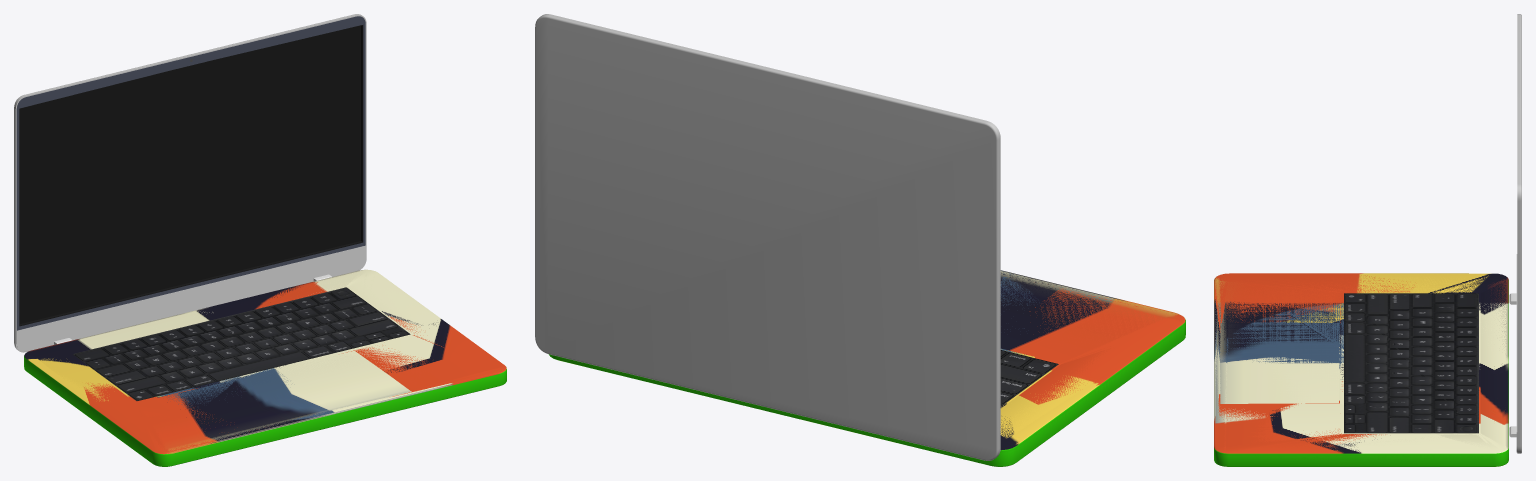
Rendered from pc_1_baskı.fbx.
3 views of the same model, side by side, from view 1: azimuth 30°, elevation 25°; view 2: azimuth 150°, elevation 25°; view 3: azimuth 270°, elevation 25° (orthographic). The views are drawn at different scales.
Visible parts, largest first — view 1: ekran_bosluk, kasa_klayve_bosluk, sadece_klavye, bos_kasa, kasa_mousepad_bosluk, kasa_klayve_mousepad_bosluk; view 2: ekran_bosluk, kasa_klayve_bosluk, kasa_mousepad_bosluk, bos_kasa, sadece_klavye; view 3: kasa_klayve_bosluk, sadece_klavye, kasa_mousepad_bosluk, bos_kasa, kasa_klayve_mousepad_bosluk, ekran_bosluk.
Boxes of the visible parts, box(x1,y1,x2,y2) form: ekran_bosluk: box(14, 14, 366, 352); kasa_klayve_bosluk: box(24, 269, 506, 466); sadece_klavye: box(73, 287, 410, 400); bos_kasa: box(24, 270, 506, 465); kasa_mousepad_bosluk: box(87, 270, 504, 453); kasa_klayve_mousepad_bosluk: box(27, 270, 502, 450); ekran_bosluk: box(535, 14, 1000, 460); kasa_klayve_bosluk: box(549, 271, 1185, 466); kasa_mousepad_bosluk: box(1000, 270, 1183, 444); bos_kasa: box(551, 274, 1185, 464); sadece_klavye: box(1000, 350, 1058, 406); kasa_klayve_bosluk: box(1214, 273, 1508, 466); sadece_klavye: box(1344, 293, 1478, 433); kasa_mousepad_bosluk: box(1214, 274, 1506, 452); bos_kasa: box(1214, 274, 1508, 465); kasa_klayve_mousepad_bosluk: box(1216, 273, 1507, 452); ekran_bosluk: box(1509, 14, 1521, 453).
Bounding box in the file's own units: 357 × 257 × 258.
